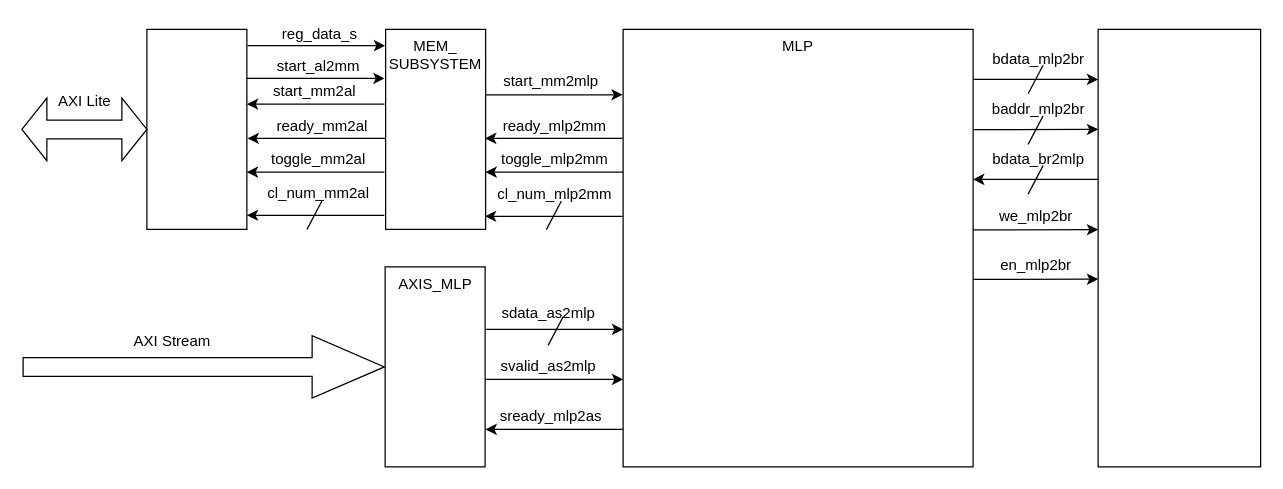
Some shapes in this 1283 by 489 pixel diagram are drawn without their labels. The shapes that lost their labels are listed below. From the top down, each one's centre as x and y in pixels, then its label:
At pixel 196 128: "AXIL_MLP".
At pixel 1179 247: "BRAM".
